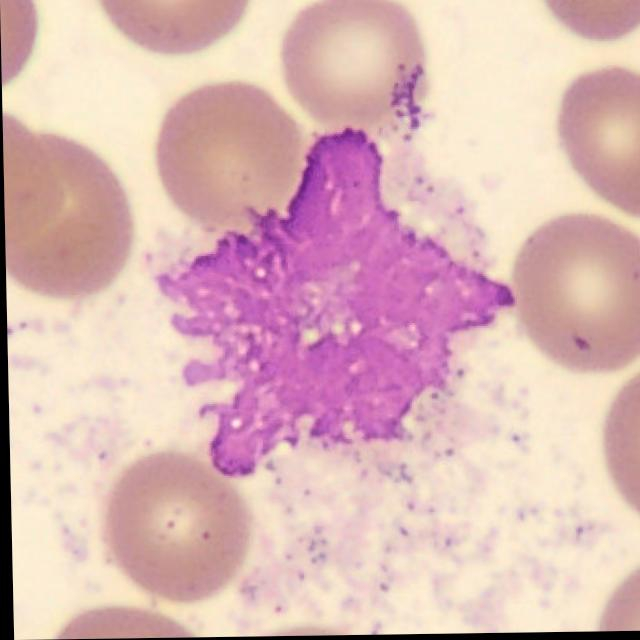Artefato: (157, 131, 513, 475)
